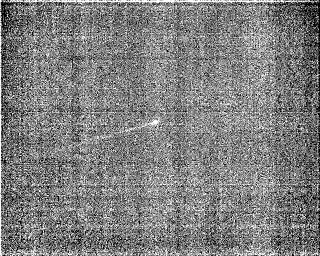AIRPLANE: (81, 117, 160, 143)
